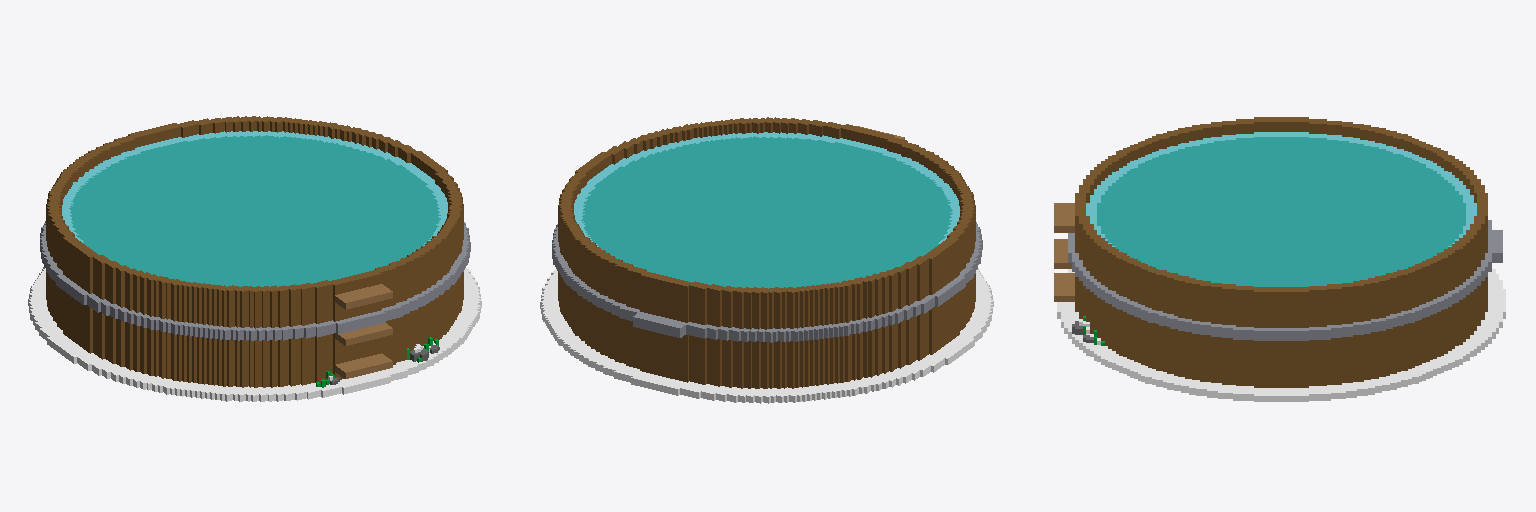
3 renders of one model, left to right at view 1: azimuth 30°, elevation 25°; view 2: azimuth 150°, elevation 25°; view 3: azimuth 270°, elevation 25°, orthographic.
Parts seen in each view (by area): view 1: Env_Location_HotTub; view 2: Env_Location_HotTub; view 3: Env_Location_HotTub.
Boxes of the visible parts, x1,y1,x2,y2 form: Env_Location_HotTub: [28, 116, 481, 401]; Env_Location_HotTub: [540, 117, 993, 403]; Env_Location_HotTub: [1054, 117, 1505, 401].
Size of the model in its own units: 12.3 by 3.1 by 12.4.
1 materials, 1 textured.